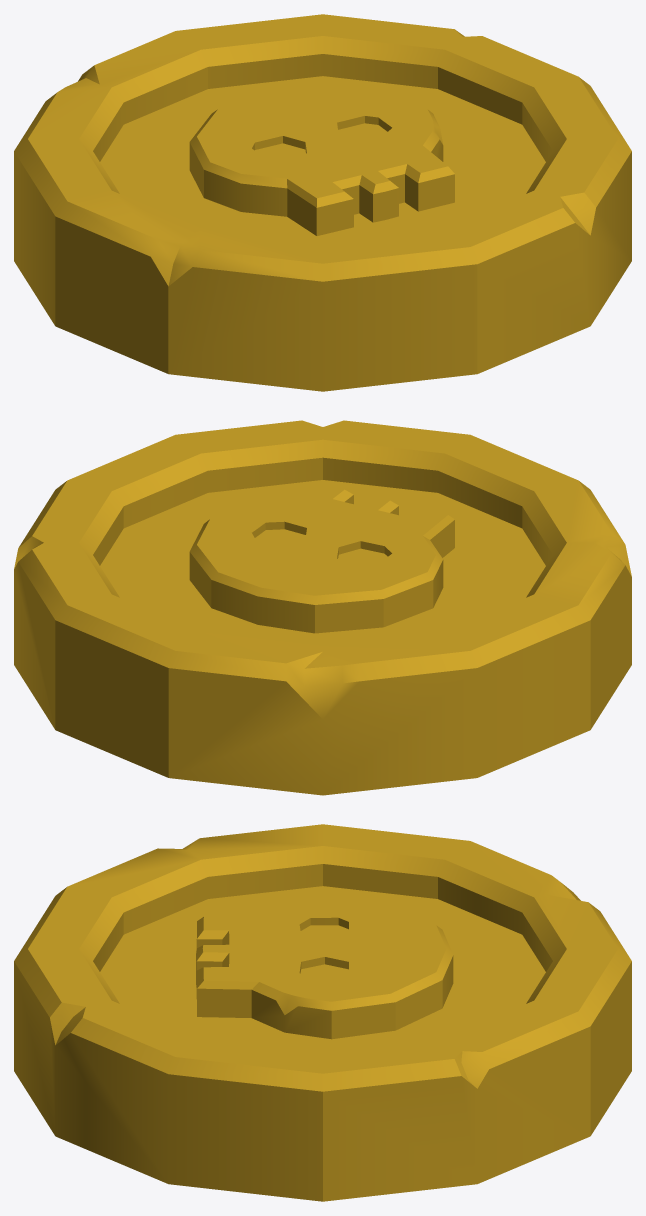
File: Coin.fbx
3 renders of one model, top to bottom at view 1: azimuth 30°, elevation 25°; view 2: azimuth 150°, elevation 25°; view 3: azimuth 270°, elevation 25°, orthographic.
Parts seen in each view (by area): view 1: Cylinder; view 2: Cylinder; view 3: Cylinder.
Part boxes in pixels (box(x1,y1,x2,y2)): Cylinder: box(14, 14, 631, 391); Cylinder: box(14, 420, 631, 795); Cylinder: box(14, 824, 631, 1201).
Size of the model in its own units: 2 by 0.4371 by 2.
